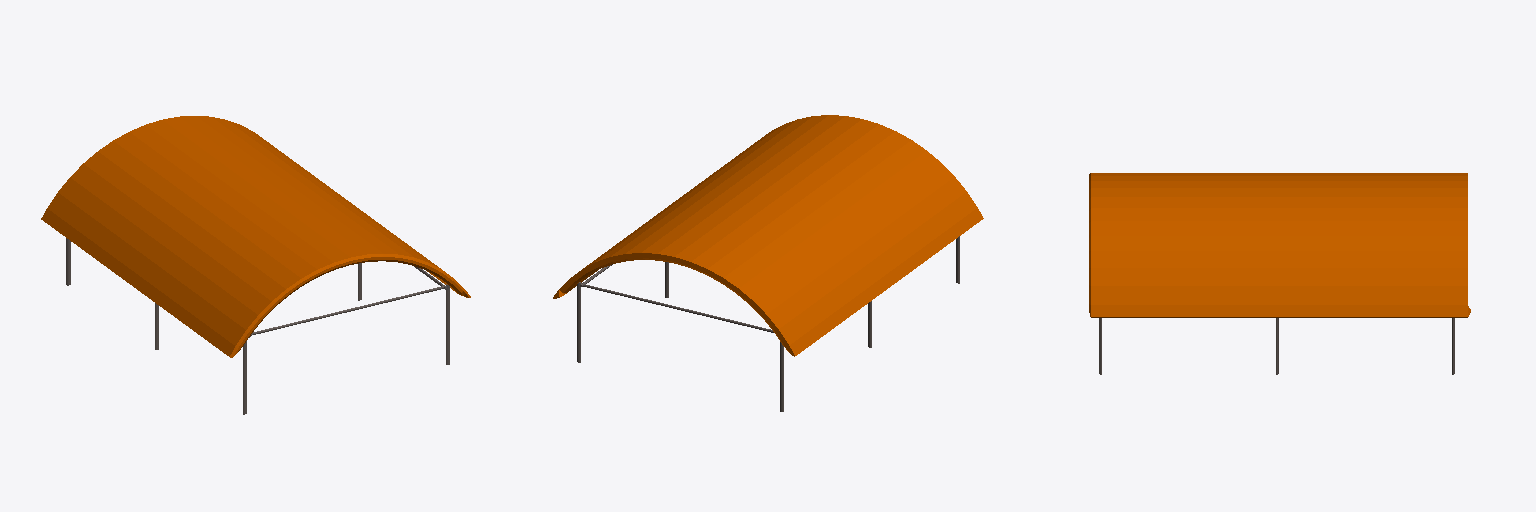
The model's file is Warehouse.obj.
3 renders of one model, left to right at view 1: azimuth 30°, elevation 25°; view 2: azimuth 150°, elevation 25°; view 3: azimuth 270°, elevation 25°, orthographic.
Visible parts, largest first — view 1: Warehouse; view 2: Warehouse; view 3: Warehouse.
Boxes of the visible parts, x1,y1,x2,y2 form: Warehouse: [41, 116, 470, 414]; Warehouse: [553, 115, 983, 411]; Warehouse: [1089, 173, 1470, 374].
Bounding box in the file's own units: 11.08 × 5.92 × 15.15.